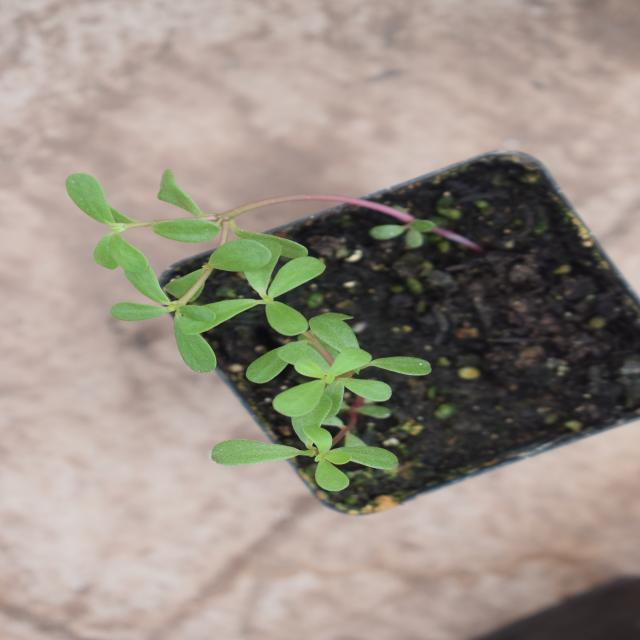purslane: (144, 325, 359, 528), (329, 206, 488, 478)
